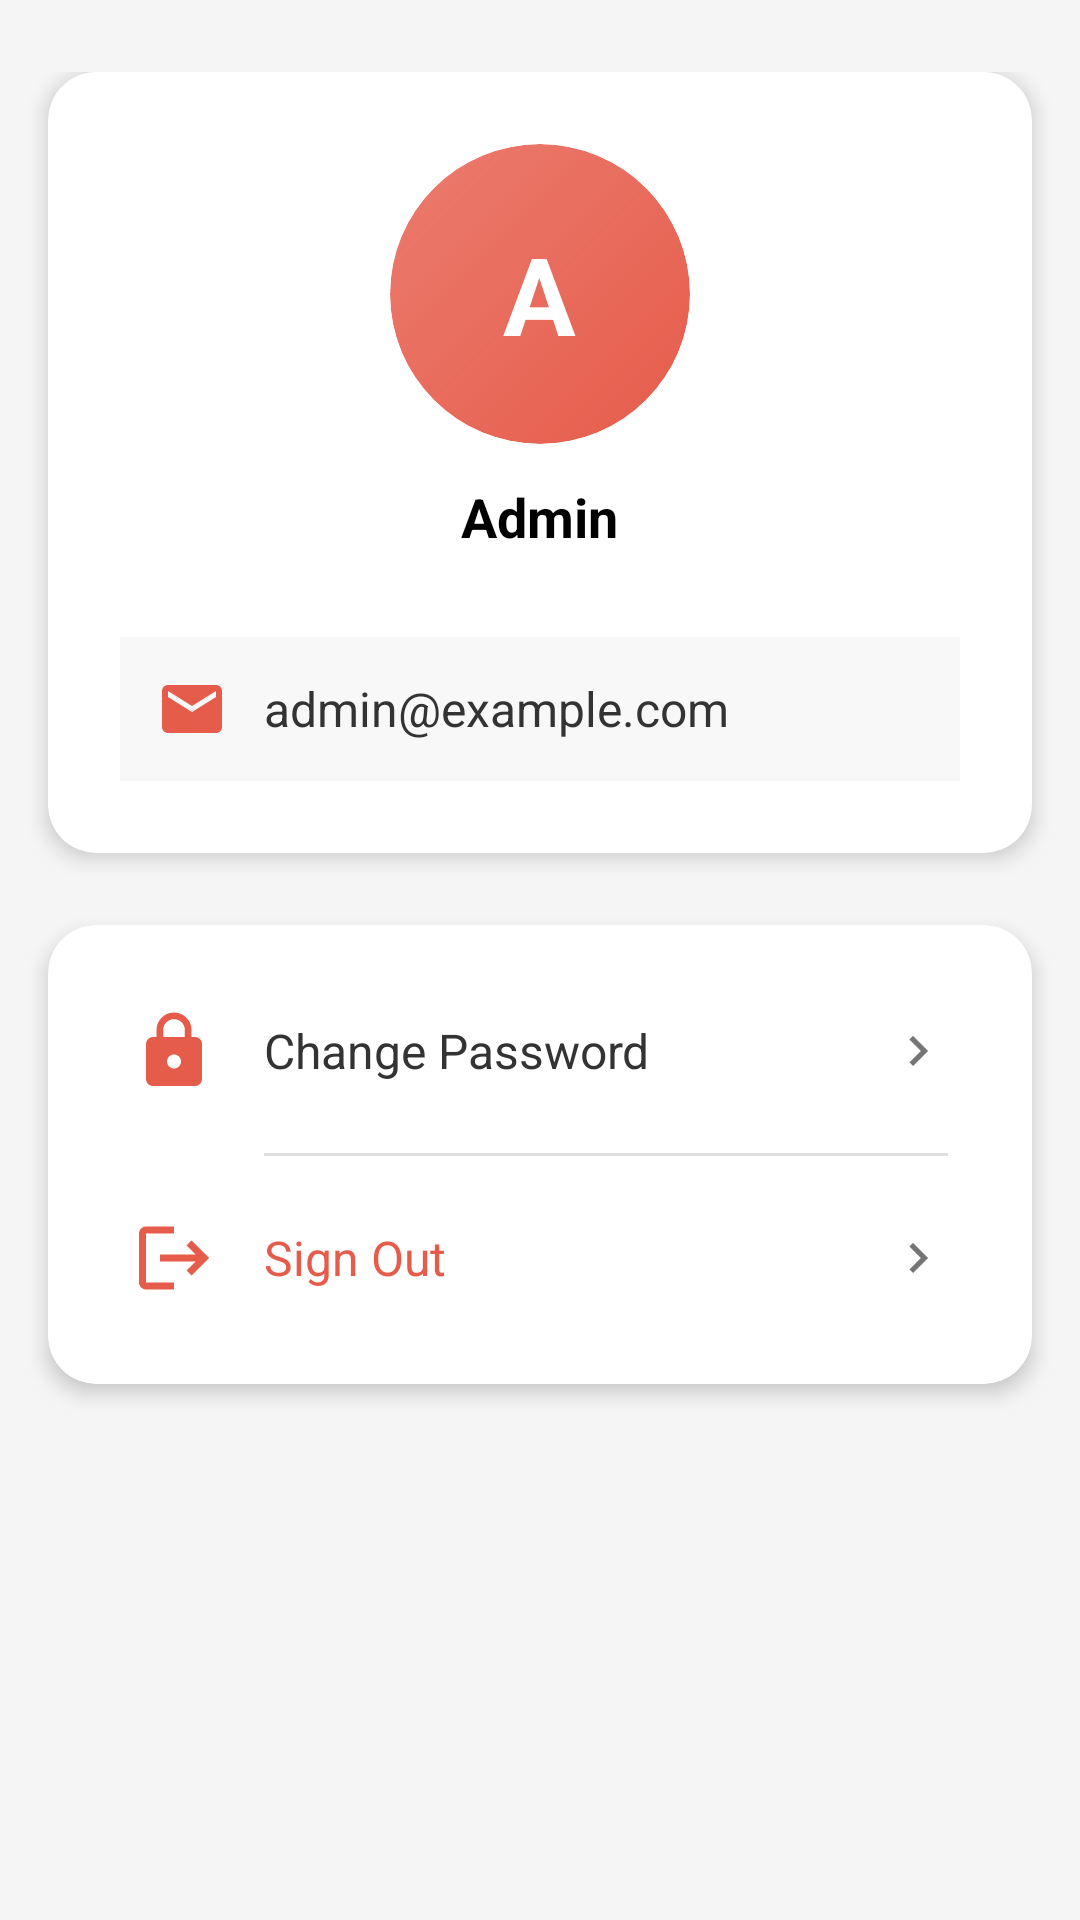

Icon bounding boxes for this 1080px x 1920px phone screenshot, format (x1, y1, x2, y2):
chevron right: (909, 1036, 928, 1066), (909, 1243, 928, 1273)
email: (162, 685, 222, 733)
lock: (146, 1012, 202, 1086)
